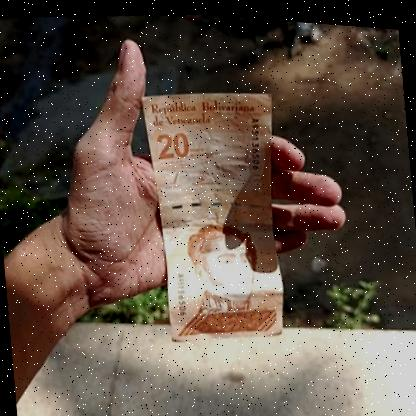twenty-front-vef: (141, 81, 290, 347)
